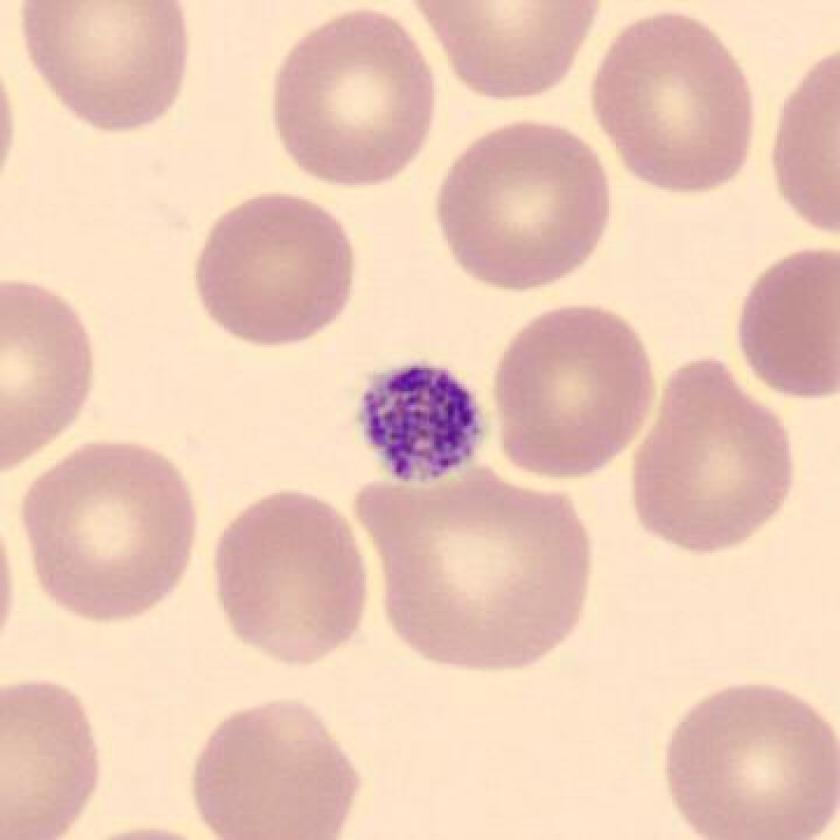platelets: (342, 346, 500, 496)
